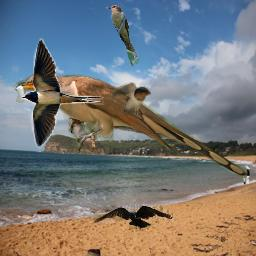Crow: (94, 205, 173, 232)
Cuckoo: (10, 71, 249, 177), (106, 5, 139, 67)
Swallow: (22, 38, 104, 149), (110, 82, 151, 115)
